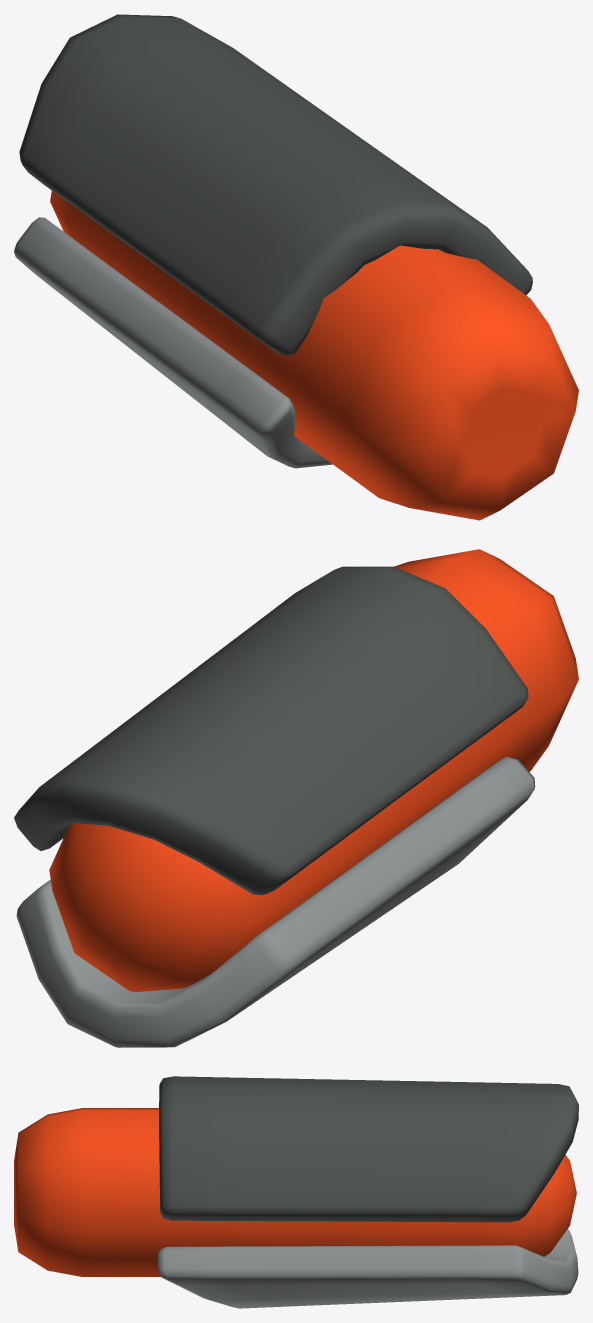
File: xsens_LeftSecondPP.dae
3 views of the same model, one above another, from view 1: azimuth 30°, elevation 25°; view 2: azimuth 150°, elevation 25°; view 3: azimuth 270°, elevation 25° (orthographic). The views are drawn at different scales.
Parts seen in each view (by area): view 1: LeftSecondPP; view 2: LeftSecondPP; view 3: LeftSecondPP.
Boxes of the visible parts, <box> form: LeftSecondPP: <box>14,14,578,520</box>; LeftSecondPP: <box>14,549,578,1047</box>; LeftSecondPP: <box>14,1076,578,1308</box>.
Bounding box in the file's own units: 0.0188 × 0.0459 × 0.0189.
